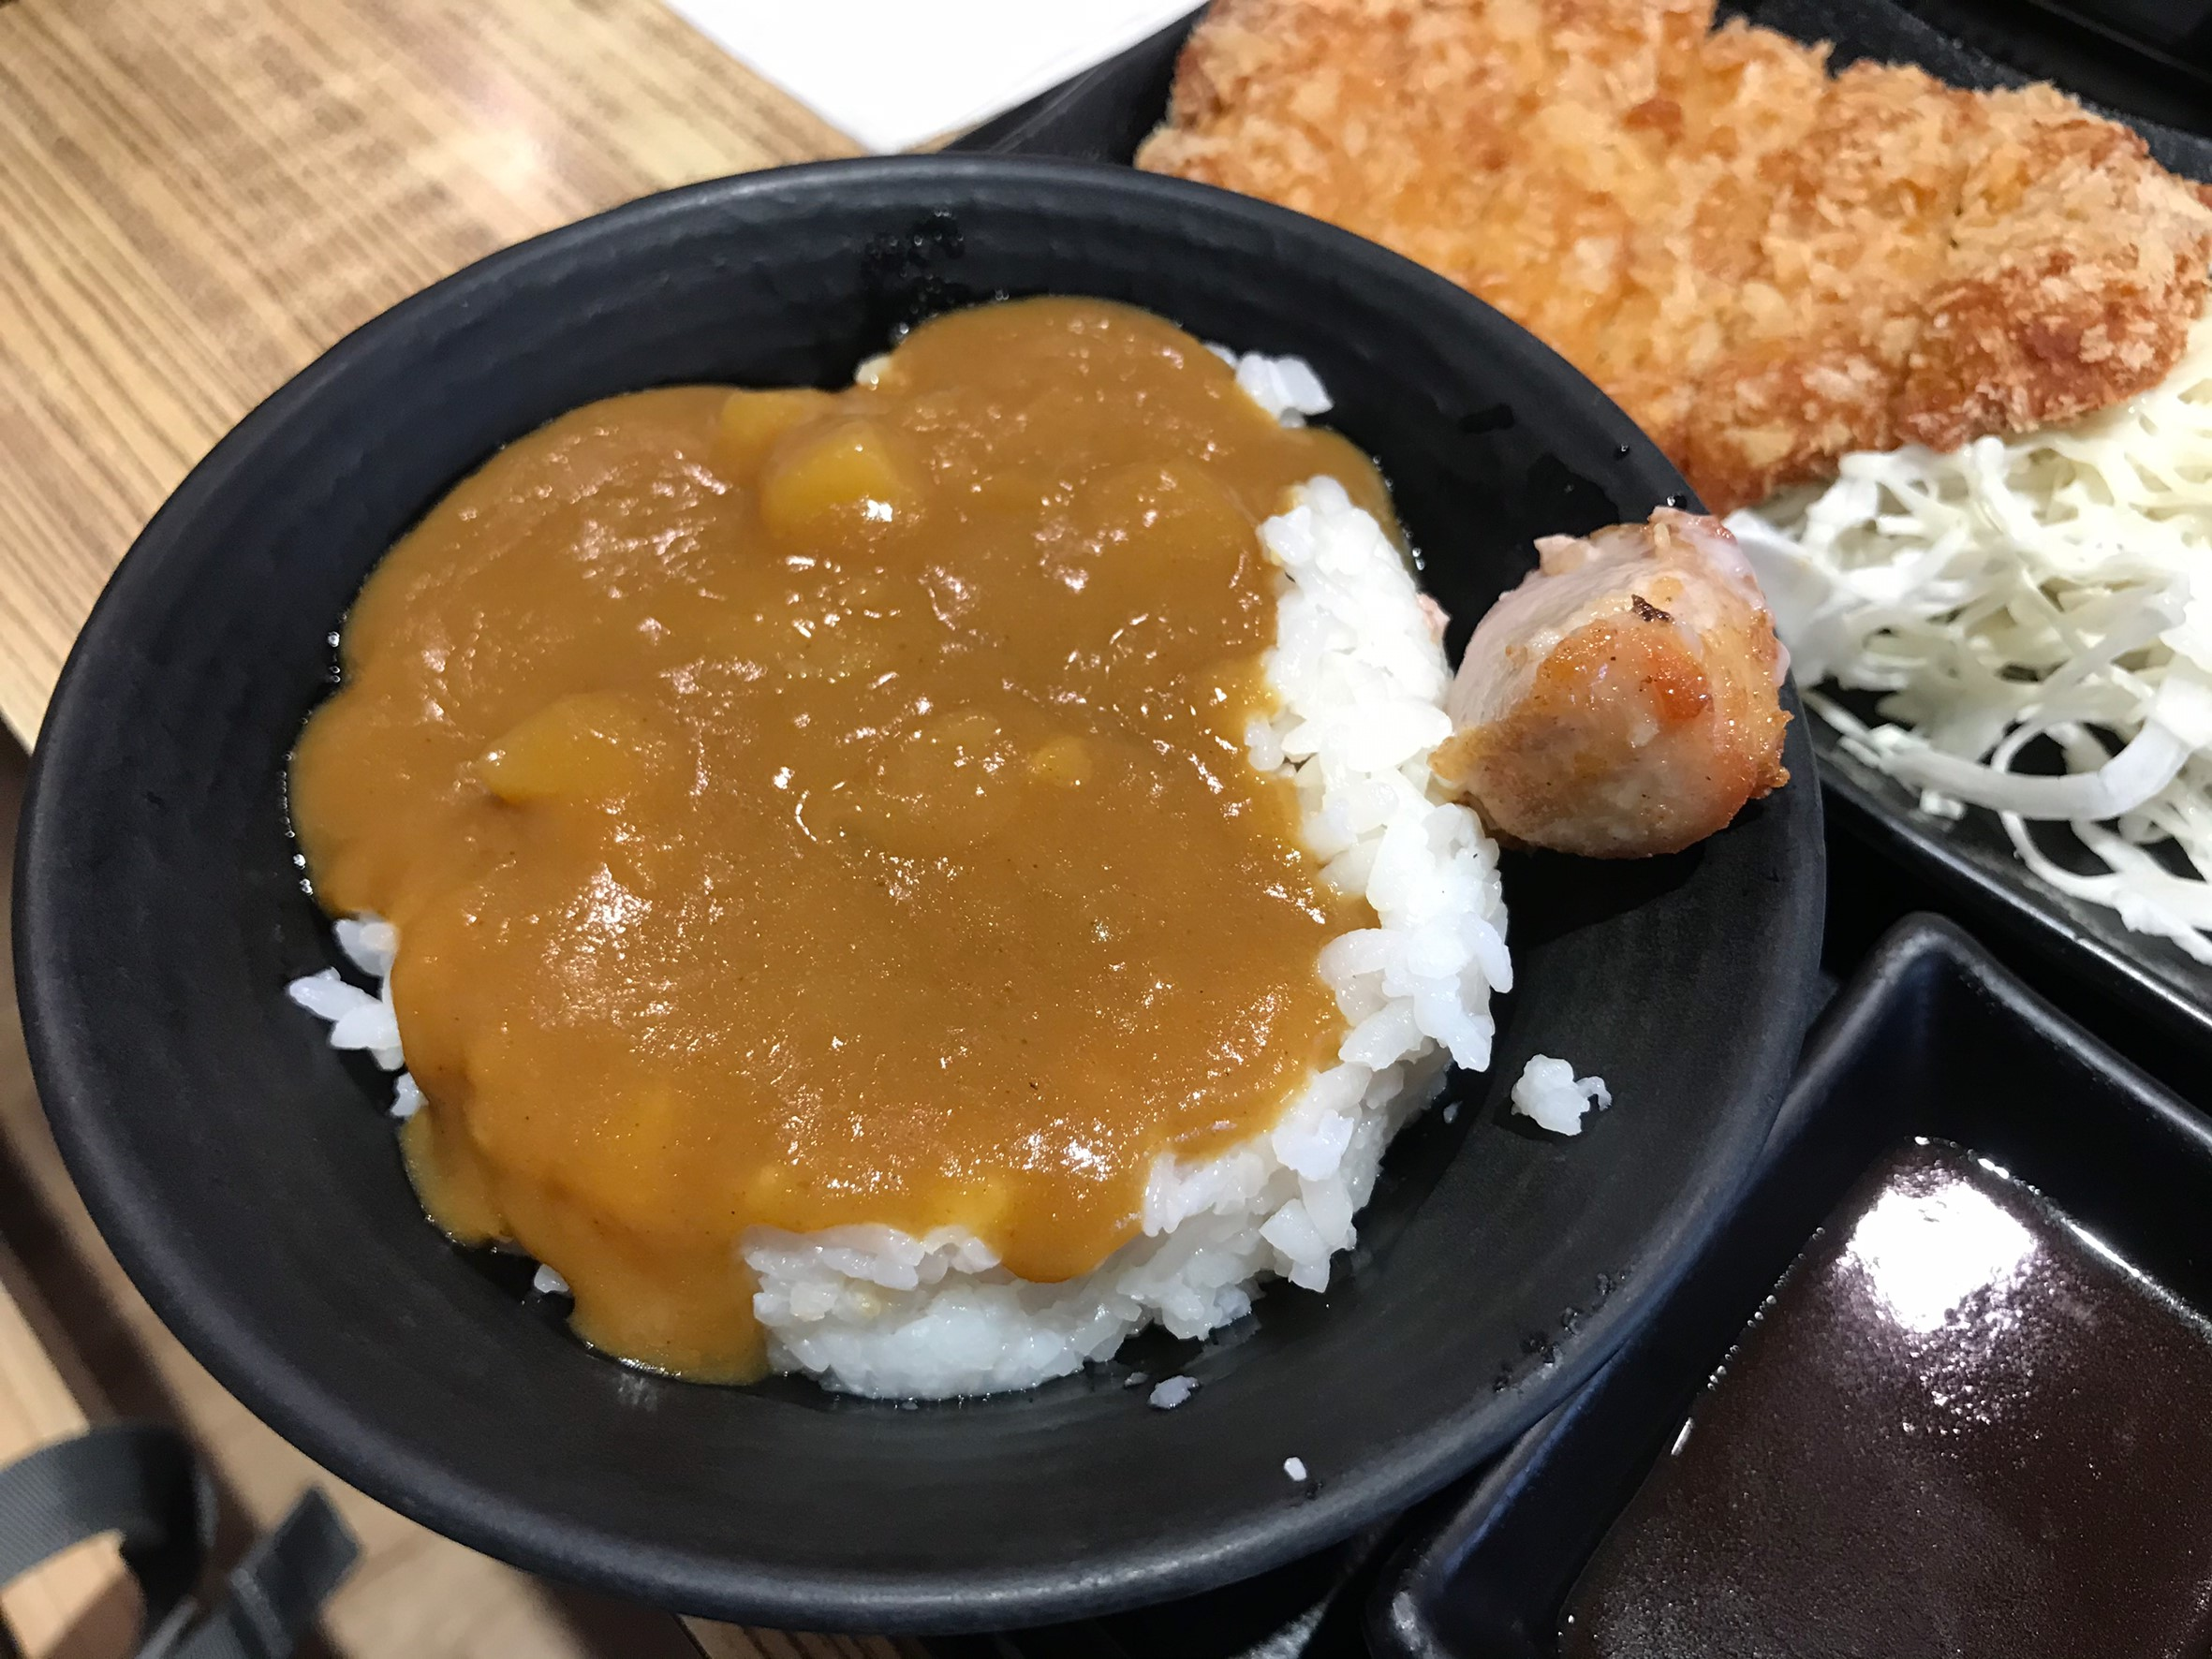curry: (364, 350, 1396, 1276)
